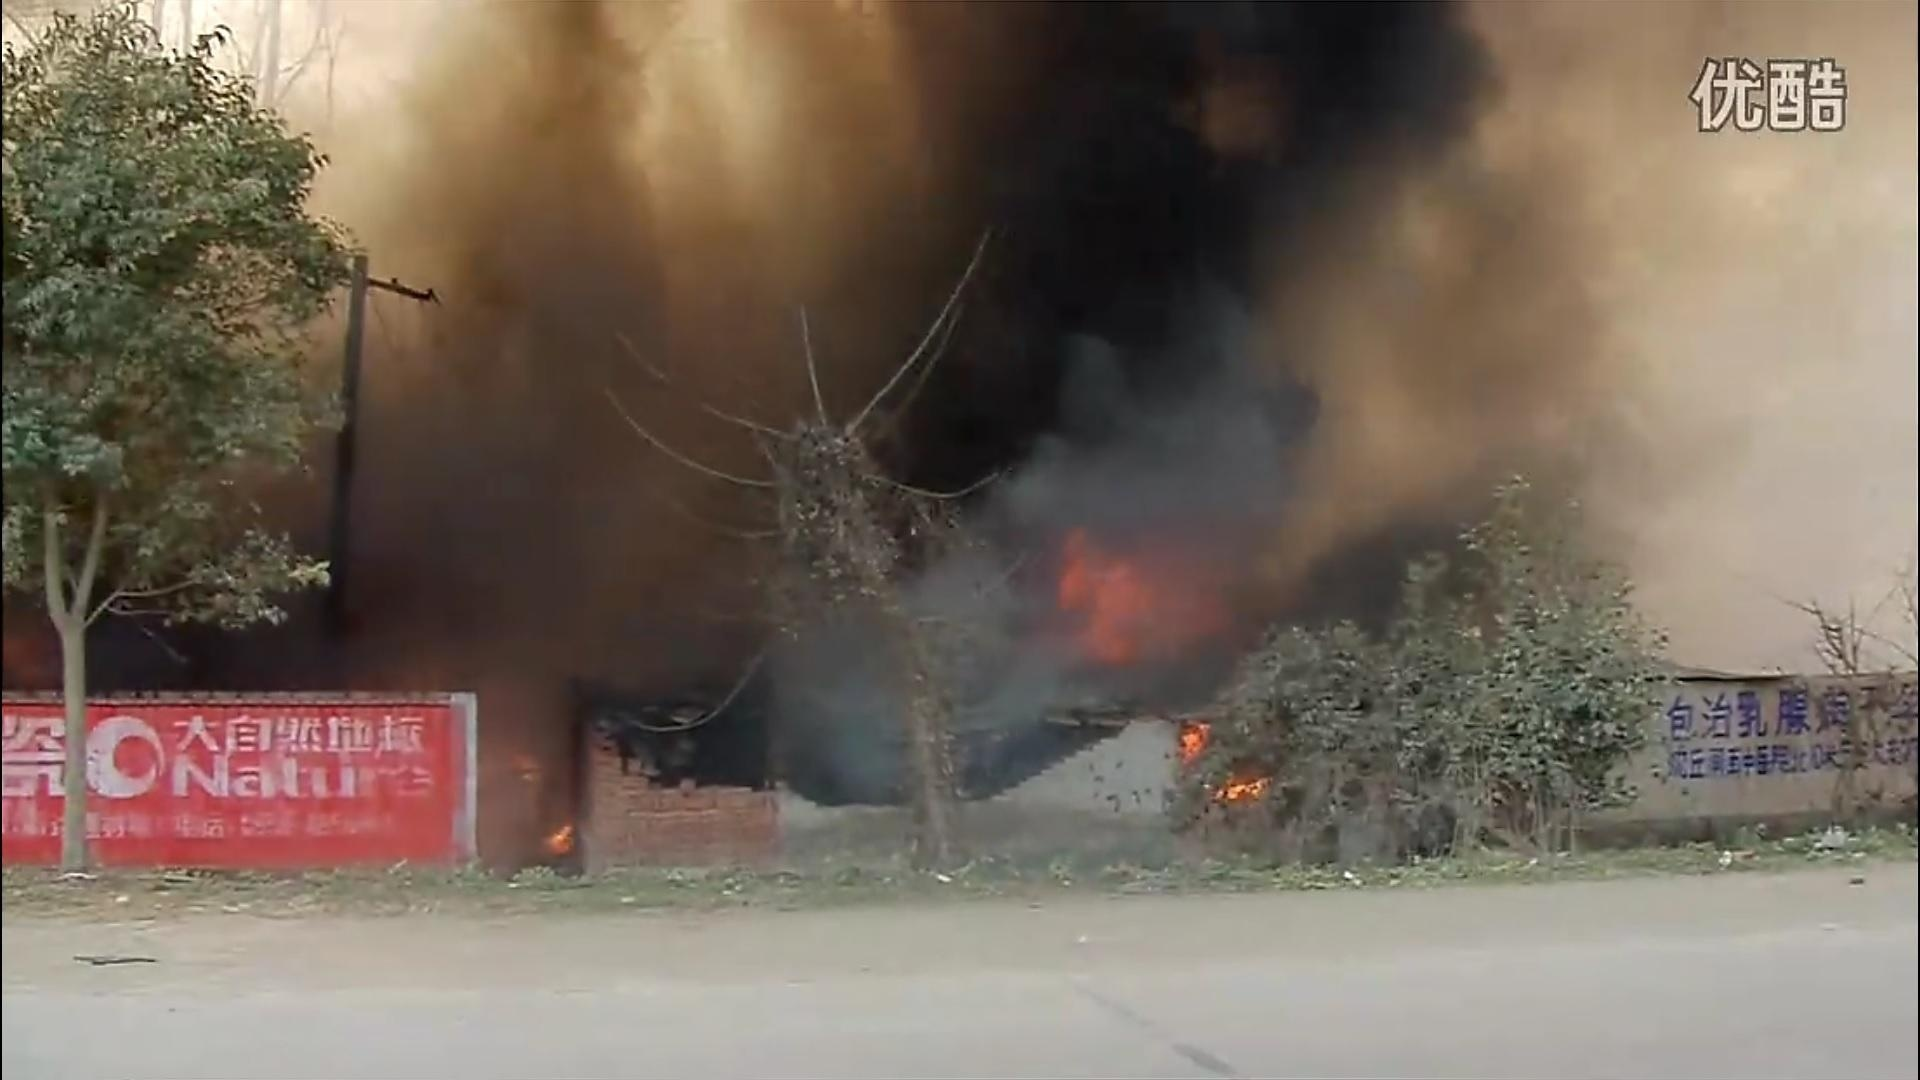fire: (1215, 769, 1267, 806), (1178, 721, 1209, 760)
